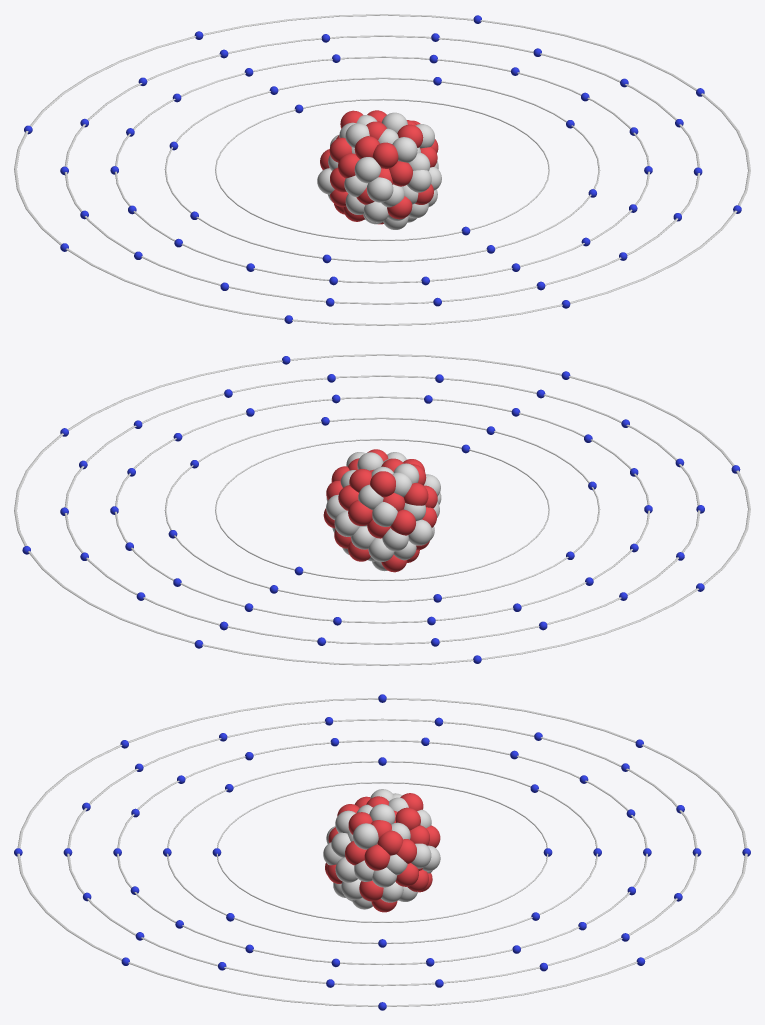
File: Xenon.glb
The picture shows the model from 3 angles, top to bottom: view 1: azimuth 30°, elevation 25°; view 2: azimuth 150°, elevation 25°; view 3: azimuth 270°, elevation 25°; orthographic projection.
Parts seen in each view (by area): view 1: O-Schale, N-Schale, M--Schale, L--Schale, K-Schale, Neutron 54, Neutron 62, Proton 37; view 2: O-Schale, N-Schale, M--Schale, L--Schale, K-Schale, Proton 54; view 3: O-Schale, N-Schale, M--Schale, L--Schale, K-Schale, Neutron 5.
Boxes of the visible parts, box(x1,y1,x2,y2) form: O-Schale: box(14, 14, 750, 325); N-Schale: box(64, 35, 700, 304); M--Schale: box(115, 56, 650, 283); L--Schale: box(164, 77, 600, 262); K-Schale: box(215, 99, 549, 240); Neutron 54: box(354, 157, 381, 183); Neutron 62: box(366, 177, 393, 202); Proton 37: box(372, 142, 398, 168); O-Schale: box(14, 354, 750, 665); N-Schale: box(64, 375, 700, 644); M--Schale: box(115, 396, 650, 623); L--Schale: box(164, 417, 600, 602); K-Schale: box(215, 439, 549, 580); Proton 54: box(370, 471, 395, 497); O-Schale: box(17, 698, 747, 1006); N-Schale: box(67, 718, 697, 986); M--Schale: box(117, 739, 647, 965); L--Schale: box(166, 761, 598, 943); K-Schale: box(216, 782, 548, 922); Neutron 5: box(353, 823, 378, 849).
Bounding box in the file's own units: 22.26 × 3.49 × 22.26.
